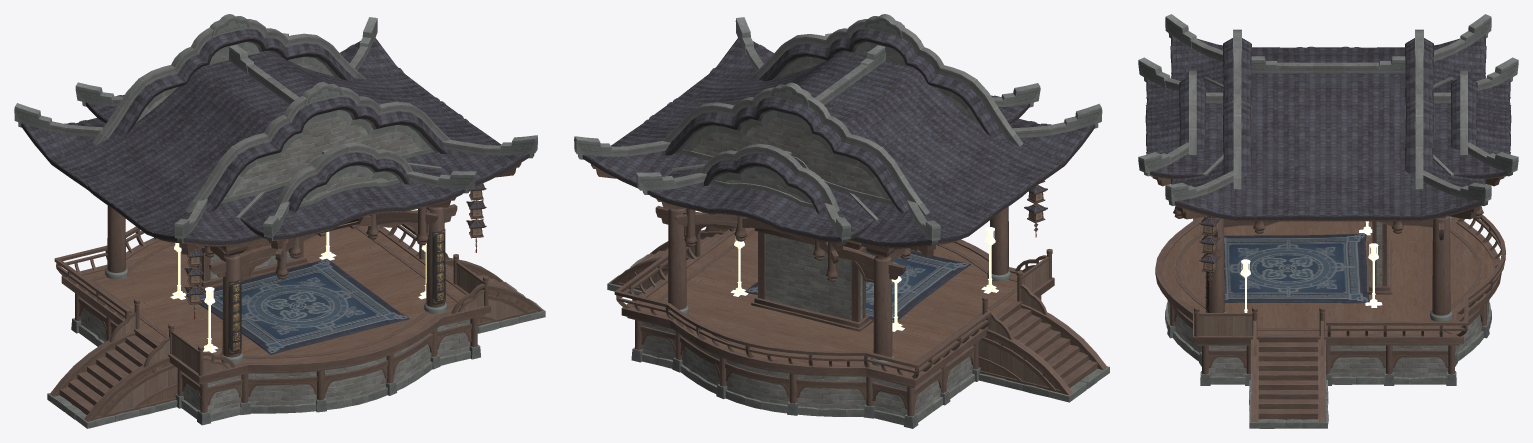
The model's file is Homeworld_Exterior_Cyg_Build_YlbXitai_01_Lod0.fbx.
The picture shows the model from 3 angles, left to right: view 1: azimuth 30°, elevation 25°; view 2: azimuth 150°, elevation 25°; view 3: azimuth 270°, elevation 25°; orthographic projection. The views are drawn at different scales.
Visible parts, largest first — view 1: Homeworld_Exterior_Cyg_Build_YlbXitai_01, Area_Cyg_Prop_QYZ_Ditan_01_Vo(Clone), Area_Cyg_Build_YLB_POI_Xitai_01_A_Vo, Area_Cyg_Light_QYZ_Deng_05_Lod0(Clone) (×2); view 2: Homeworld_Exterior_Cyg_Build_YlbXitai_01, Area_Cyg_Prop_QYZ_Ditan_01_Vo(Clone), Area_Cyg_Light_QYZ_Deng_05_Lod0(Clone); view 3: Homeworld_Exterior_Cyg_Build_YlbXitai_01, Area_Cyg_Prop_QYZ_Ditan_01_Vo(Clone), Area_Cyg_Light_QYZ_Deng_05_Lod0(Clone), Area_Ly_Light_LYG_Common_Lamp05_Lod0(Clone).
Boxes of the visible parts, <box> form: Homeworld_Exterior_Cyg_Build_YlbXitai_01: <box>14,14,545,428</box>; Area_Cyg_Prop_QYZ_Ditan_01_Vo(Clone): <box>186,259,409,354</box>; Area_Cyg_Build_YLB_POI_Xitai_01_A_Vo: <box>228,218,445,354</box>; Area_Cyg_Light_QYZ_Deng_05_Lod0(Clone) (×2): <box>184,183,486,319</box>; Homeworld_Exterior_Cyg_Build_YlbXitai_01: <box>574,14,1109,428</box>; Area_Cyg_Prop_QYZ_Ditan_01_Vo(Clone): <box>745,250,970,323</box>; Area_Cyg_Light_QYZ_Deng_05_Lod0(Clone): <box>1024,180,1047,237</box>; Homeworld_Exterior_Cyg_Build_YlbXitai_01: <box>1138,14,1518,428</box>; Area_Cyg_Prop_QYZ_Ditan_01_Vo(Clone): <box>1224,234,1369,303</box>; Area_Cyg_Light_QYZ_Deng_05_Lod0(Clone): <box>1199,216,1220,286</box>; Area_Ly_Light_LYG_Common_Lamp05_Lod0(Clone): <box>1365,243,1382,307</box>.
Size of what is drawn, in the model's own units: 20.37 by 12.44 by 14.91.
